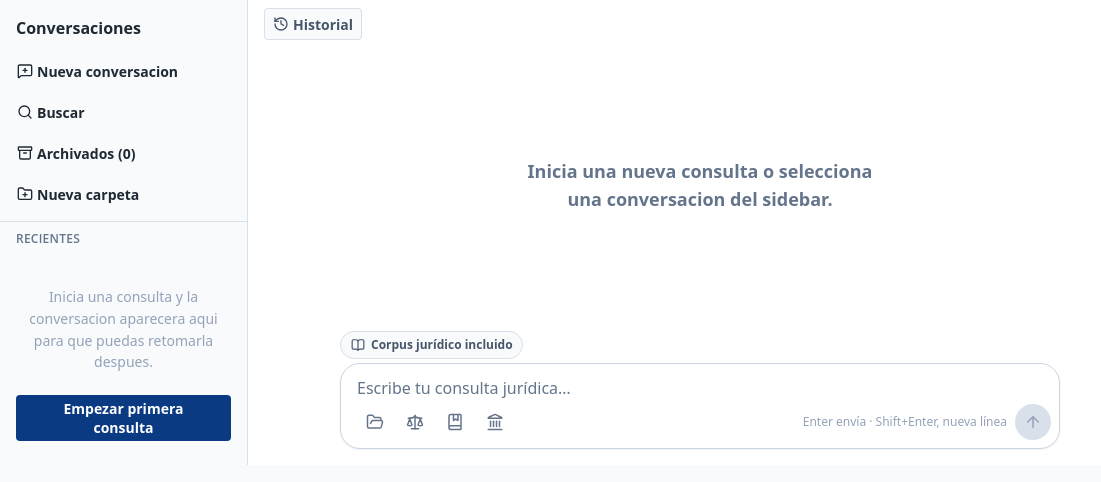
Asistente (chat) › estado cargando: boton cambia a Cancelar mientras la consulta está en vuelo
Type "consulta valida" into the text box labelled "consulta". click: (704, 388)
box: [357,376,1051,400]
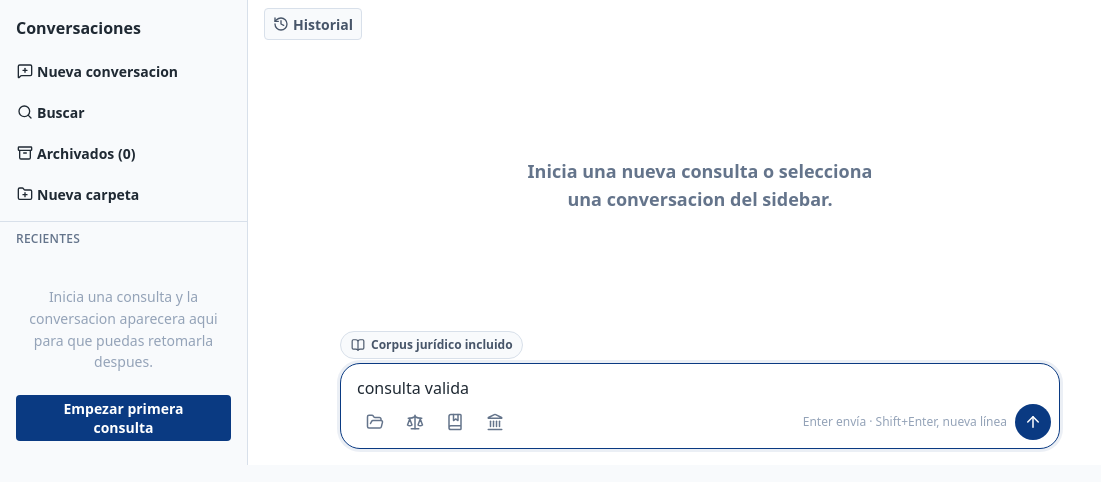
Click the button named "enviar". click: (1033, 422)
box: [1015,404,1051,440]
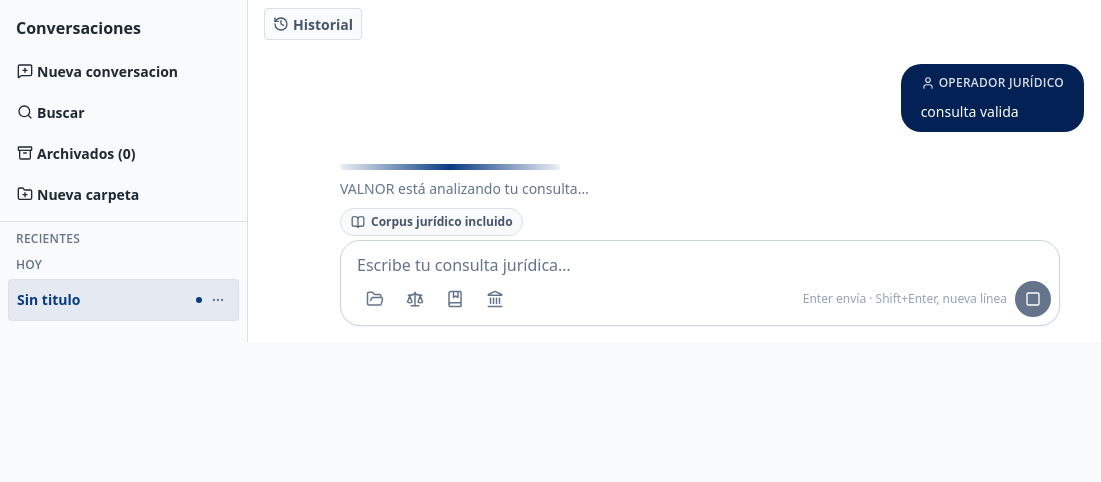
Expected: the button named "cancelar" is shown, [1015,281,1051,317]
